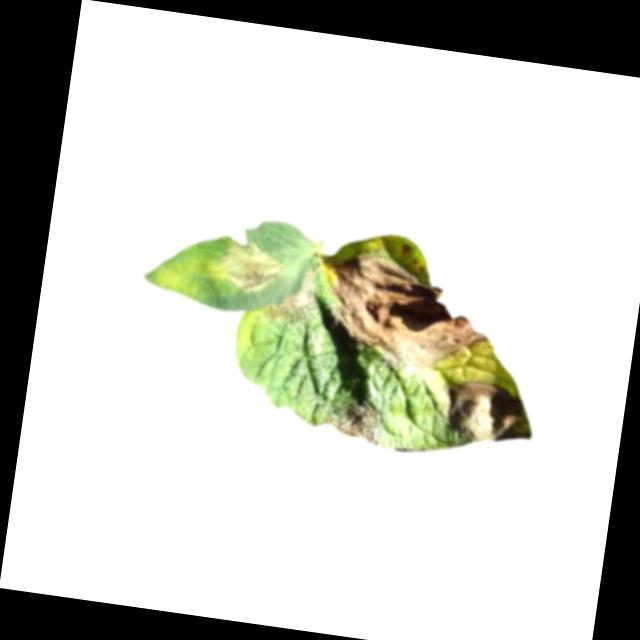Late_blight: (311, 246, 497, 380), (439, 376, 539, 450), (215, 236, 287, 299), (321, 396, 390, 450), (266, 262, 319, 327)
